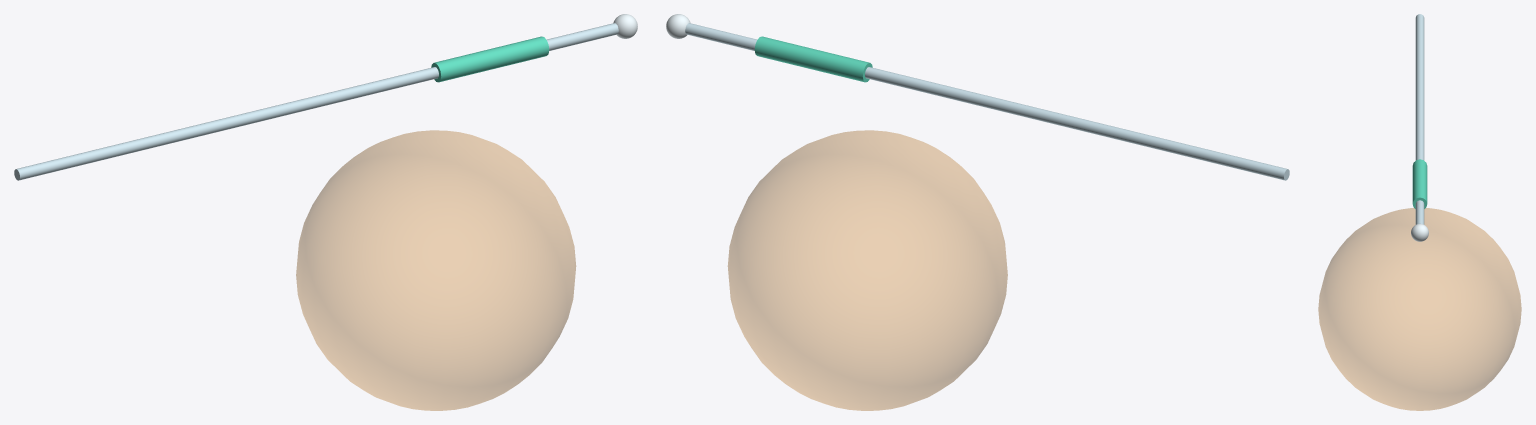
Rendered from sampling-window.glb.
The picture shows the model from 3 angles, left to right: view 1: azimuth 30°, elevation 25°; view 2: azimuth 150°, elevation 25°; view 3: azimuth 270°, elevation 25°; orthographic projection. The views are drawn at different scales.
Parts seen in each view (by area): view 1: Authored spherical target and side-window needle; view 2: Authored spherical target and side-window needle; view 3: Authored spherical target and side-window needle.
Boxes of the visible parts, bbox=[...] form: Authored spherical target and side-window needle: bbox=[14, 14, 637, 410]; Authored spherical target and side-window needle: bbox=[666, 14, 1289, 410]; Authored spherical target and side-window needle: bbox=[1318, 14, 1521, 410].
Size of the model in its own units: 0.0458 by 0.0238 by 0.018.
